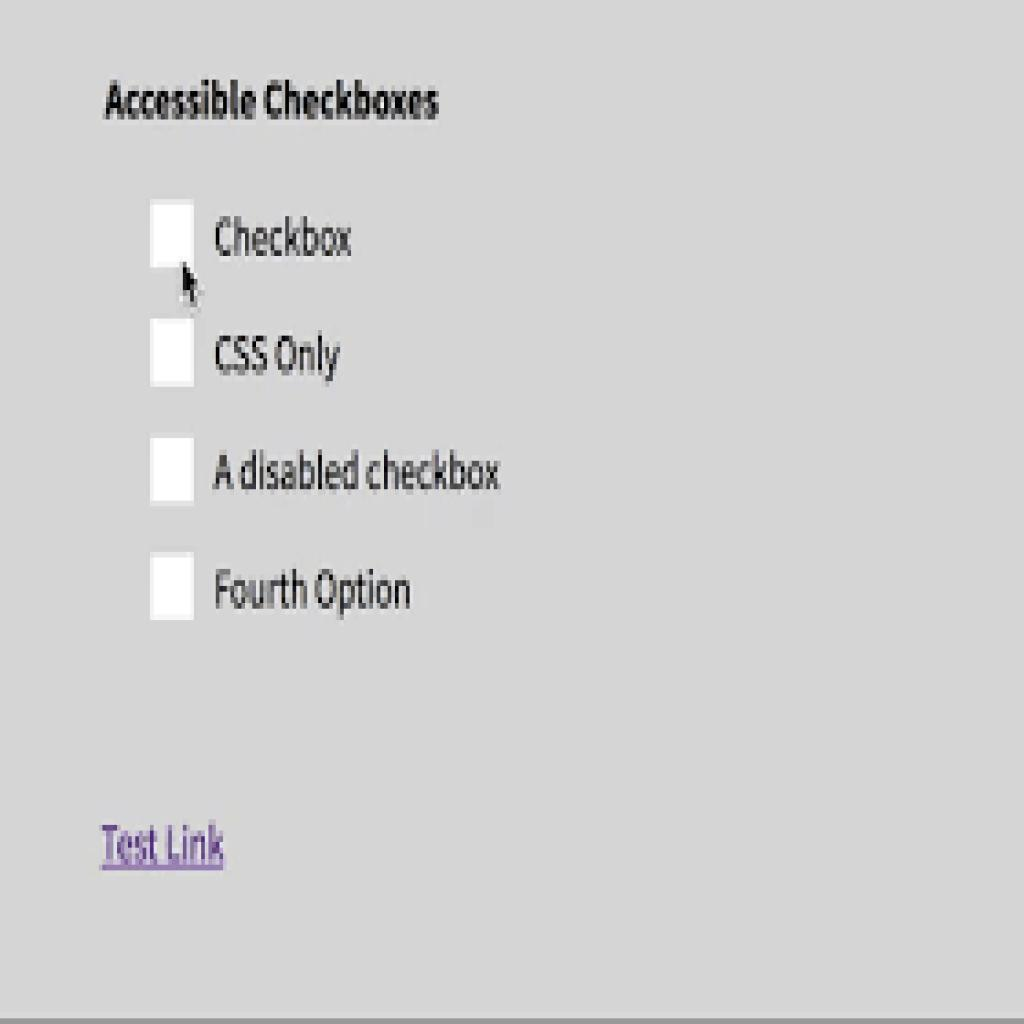checkbox: (145, 549, 201, 626), (145, 316, 198, 395), (148, 193, 199, 275), (146, 433, 196, 510)
